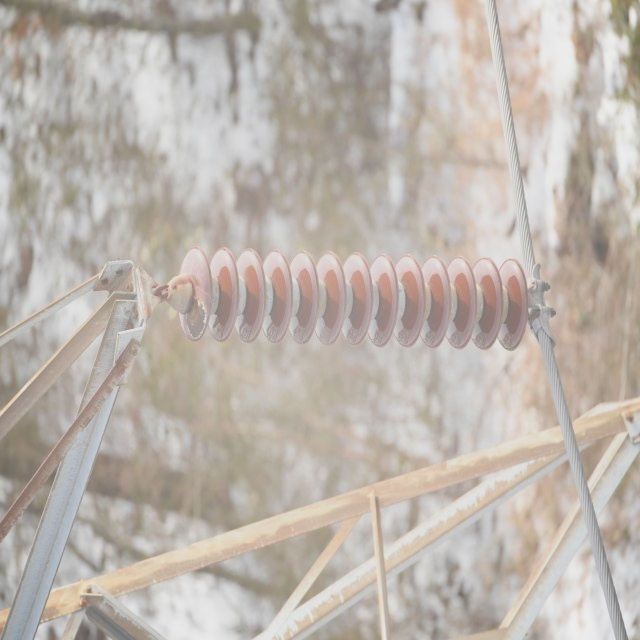insulator: (179, 242, 527, 353)
